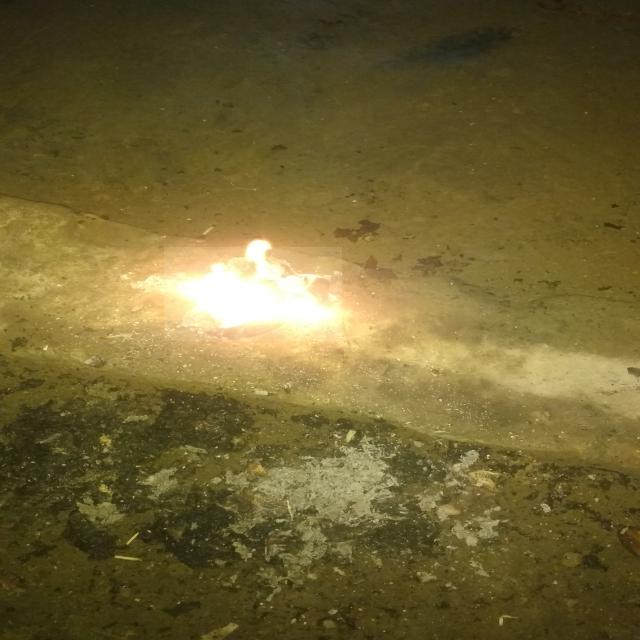Fire: (164, 247, 342, 341)
